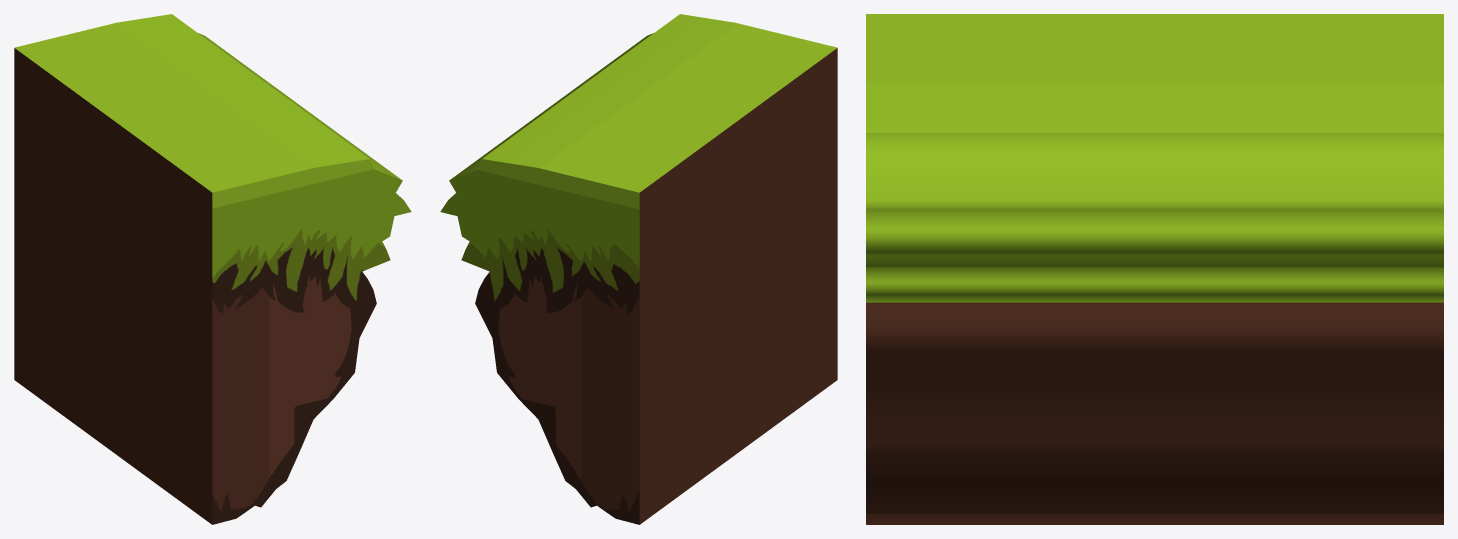
Rendered from BlockRightEdge.fbx.
3 renders of one model, left to right at view 1: azimuth 30°, elevation 25°; view 2: azimuth 150°, elevation 25°; view 3: azimuth 270°, elevation 25°, orthographic. The views are drawn at different scales.
Parts seen in each view (by area): view 1: polySurface2; view 2: polySurface2; view 3: polySurface2.
Part boxes in pixels (<box>): polySurface2: <box>14,14,411,524</box>; polySurface2: <box>440,14,837,524</box>; polySurface2: <box>866,14,1443,524</box>.
Bounding box in the file's own units: 1.85 × 2.94 × 3.18.
